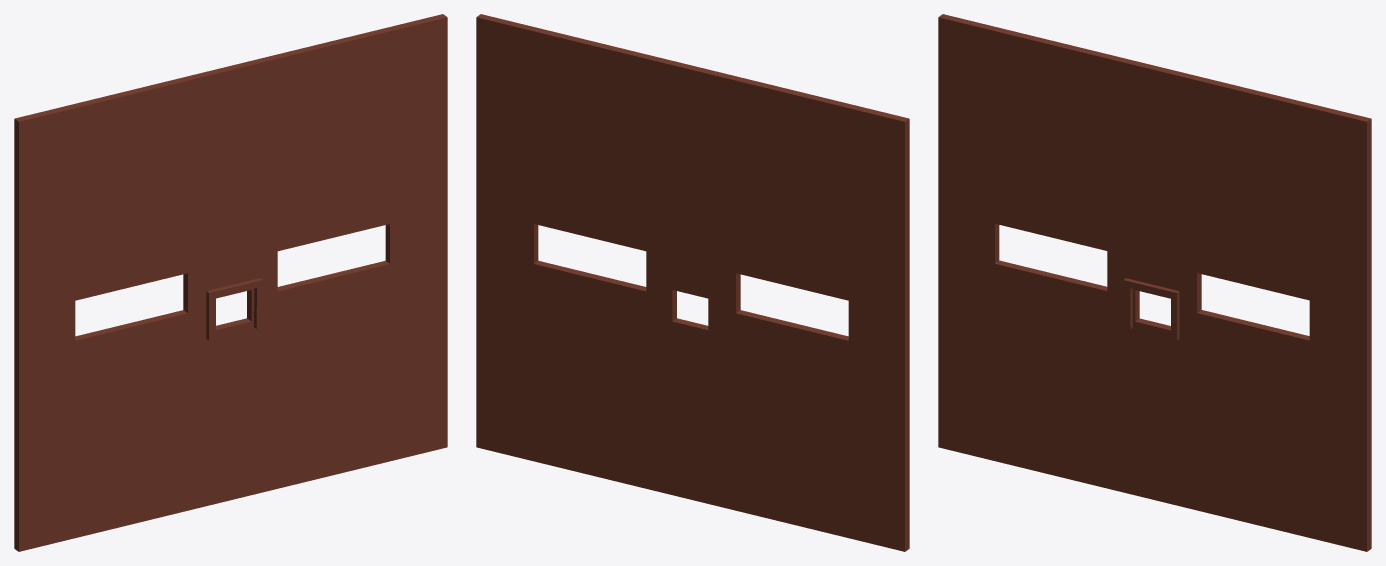
Rendered from lib_rightupperwall.fbx.
The picture shows the model from 3 angles, left to right: view 1: azimuth 30°, elevation 25°; view 2: azimuth 150°, elevation 25°; view 3: azimuth 330°, elevation 25°; orthographic projection.
Visible parts, largest first — view 1: Wall.001; view 2: Wall.001; view 3: Wall.001.
Part boxes in pixels (x1,y1,x2,y2): Wall.001: [14, 14, 447, 551]; Wall.001: [476, 14, 909, 551]; Wall.001: [938, 14, 1371, 551].
Size of the model in its own units: 11006 by 10549 by 318.
